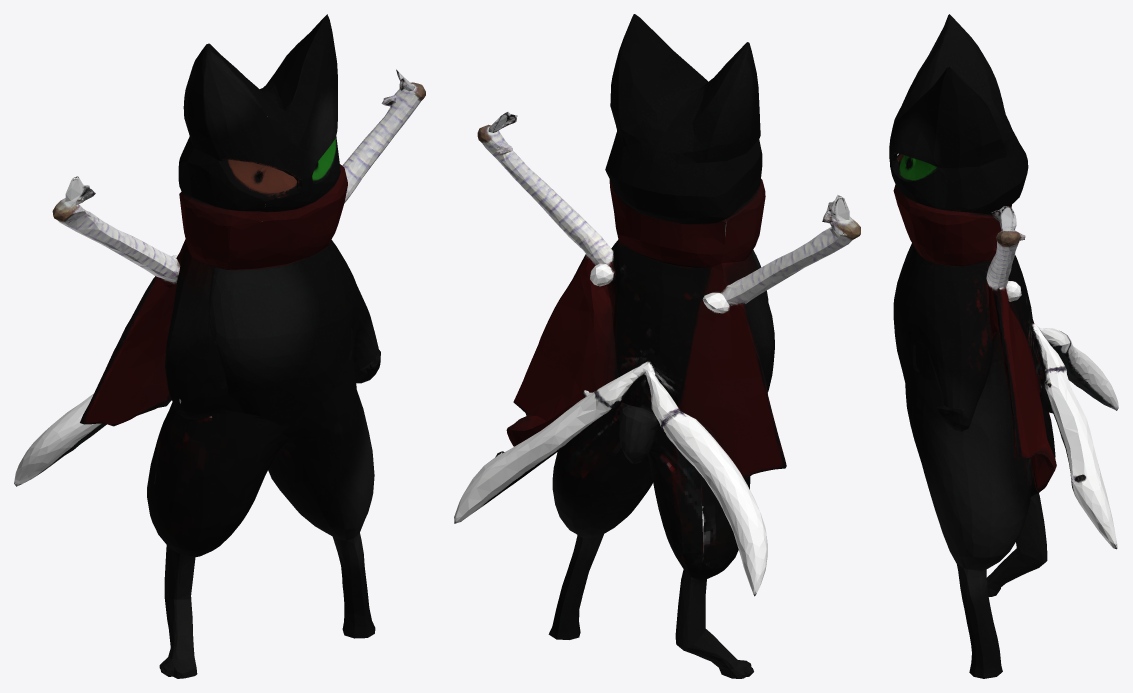
Rendered from personaje.glb.
The picture shows the model from 3 angles, left to right: view 1: azimuth 30°, elevation 25°; view 2: azimuth 150°, elevation 25°; view 3: azimuth 270°, elevation 25°; orthographic projection. The views are drawn at different scales.
Parts seen in each view (by area): view 1: world; view 2: world; view 3: world.
Boxes of the visible parts, <box> form: world: <box>14,14,425,678</box>; world: <box>454,14,860,678</box>; world: <box>889,14,1118,678</box>.
Size of the model in its own units: 0.6247 by 1 by 0.3565.
1 material, 1 textured.
